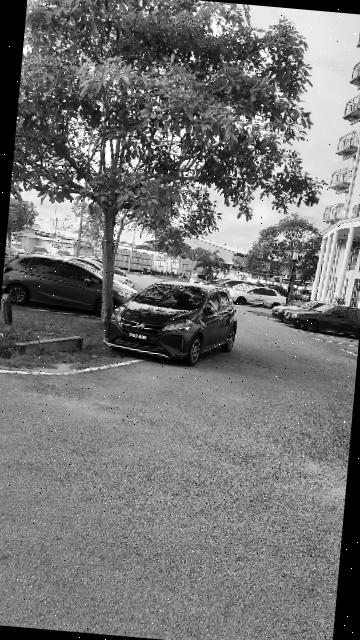License_Plate: (125, 331, 155, 348)
car: (107, 271, 243, 368), (1, 252, 148, 322), (284, 296, 360, 337), (226, 277, 294, 314)
